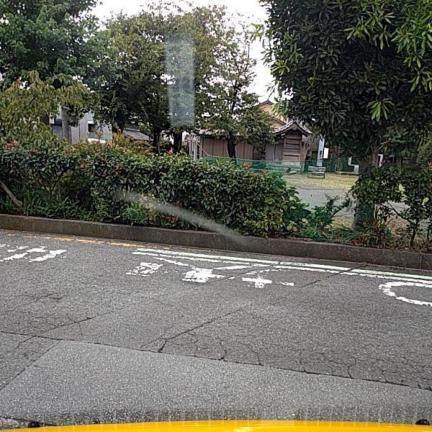Road: (0, 231, 431, 425)
